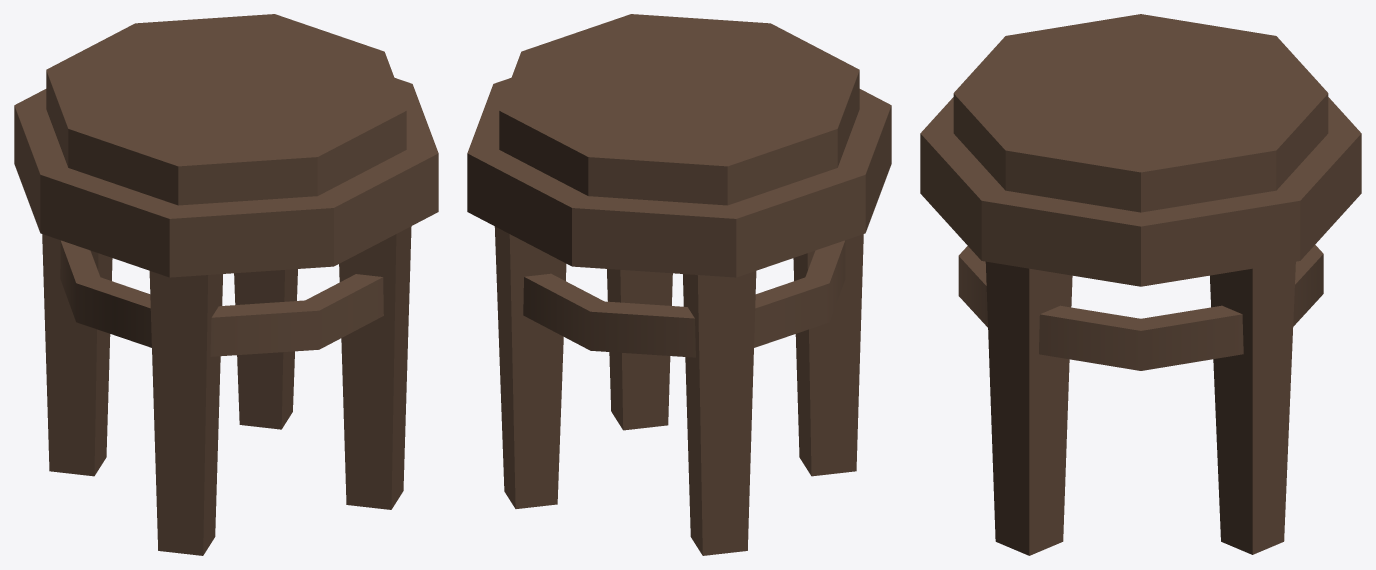
The model's file is Small Table.fbx.
The picture shows the model from 3 angles, left to right: view 1: azimuth 30°, elevation 25°; view 2: azimuth 150°, elevation 25°; view 3: azimuth 270°, elevation 25°; orthographic projection. The views are drawn at different scales.
Visible parts, largest first — view 1: geo_Small_Table; view 2: geo_Small_Table; view 3: geo_Small_Table.
Part boxes in pixels (x1,y1,x2,y2): geo_Small_Table: (14, 14, 438, 555); geo_Small_Table: (467, 14, 891, 555); geo_Small_Table: (920, 14, 1361, 555).
Bounding box in the file's own units: 0.9963 × 1 × 0.9963.
